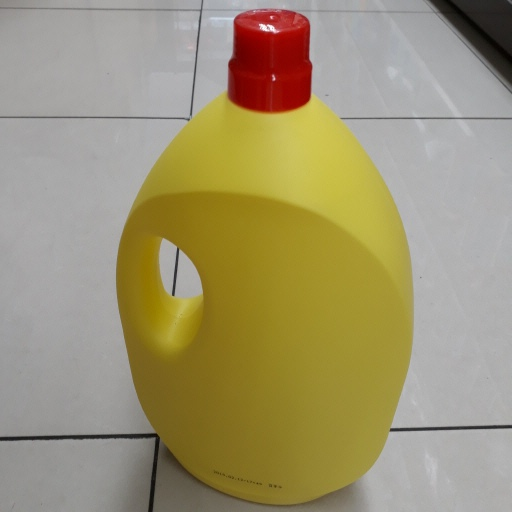Plastic_1: (115, 11, 412, 507)
